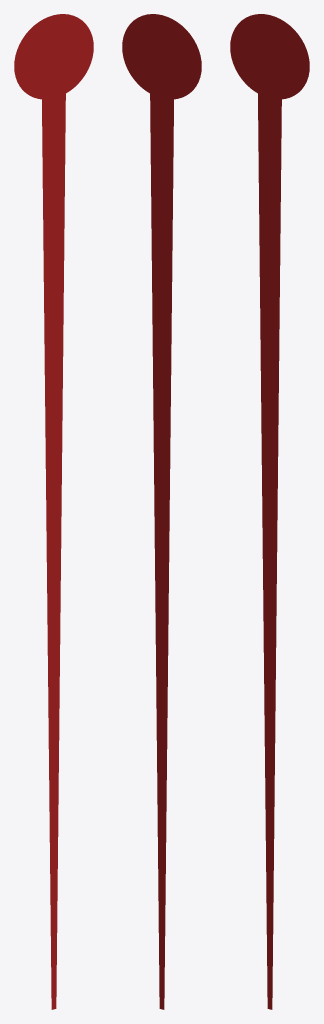
Rendered from original-87.obj.
3 renders of one model, left to right at view 1: azimuth 30°, elevation 25°; view 2: azimuth 150°, elevation 25°; view 3: azimuth 330°, elevation 25°, orthographic.
Visible parts, largest first — view 1: Group22/mesh167/mesh167-geometry#mesh167-geometry; view 2: Group22/mesh167/mesh167-geometry#mesh167-geometry; view 3: Group22/mesh167/mesh167-geometry#mesh167-geometry.
Boxes of the visible parts, bbox=[...] form: Group22/mesh167/mesh167-geometry#mesh167-geometry: bbox=[14, 14, 93, 1009]; Group22/mesh167/mesh167-geometry#mesh167-geometry: bbox=[122, 14, 201, 1009]; Group22/mesh167/mesh167-geometry#mesh167-geometry: bbox=[230, 14, 309, 1009].
Size of the model in its own units: 0.0624 by 0.7447 by 0.
